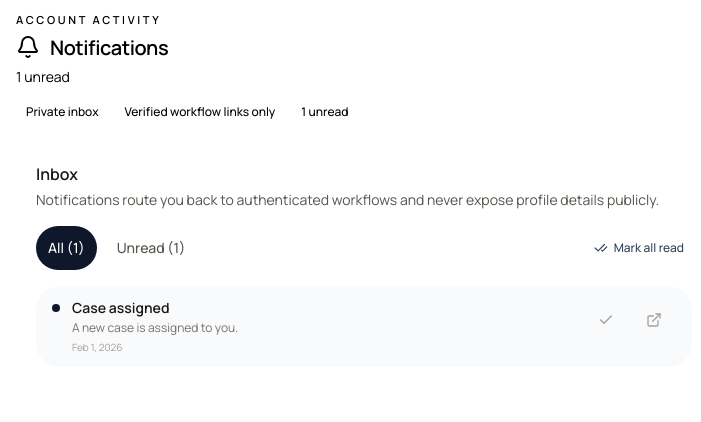
Scenario: NotificationsPageClient › supports unread filter and shows empty unread state
Check: the text "Case assigned" is shown, box [72,298,170,317]
Click the button "Unread (1)": click(151, 248) [105,226,197,270]
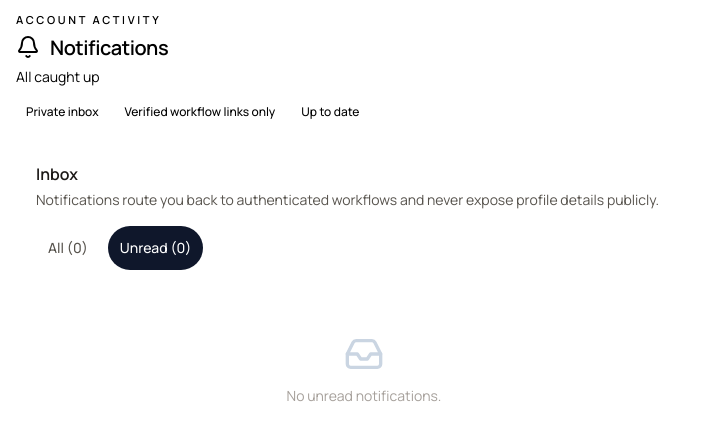
Check: the text "No unread notifications." is shown, box [287,386,441,405]
